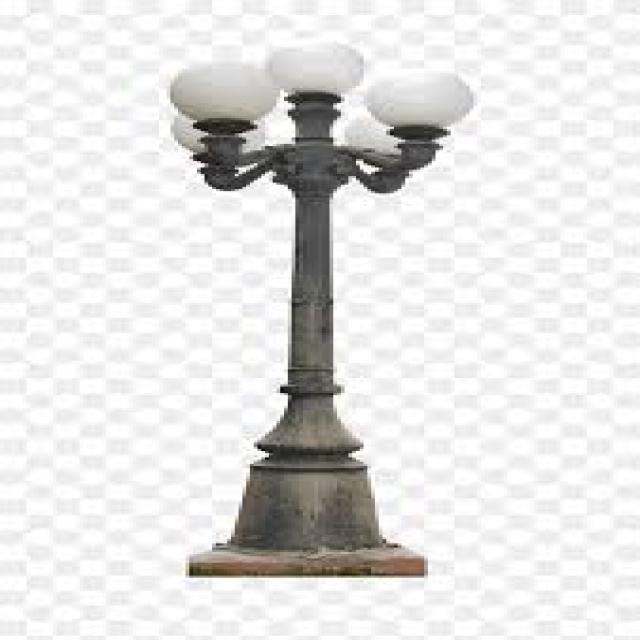Street Light: (163, 39, 473, 580)
